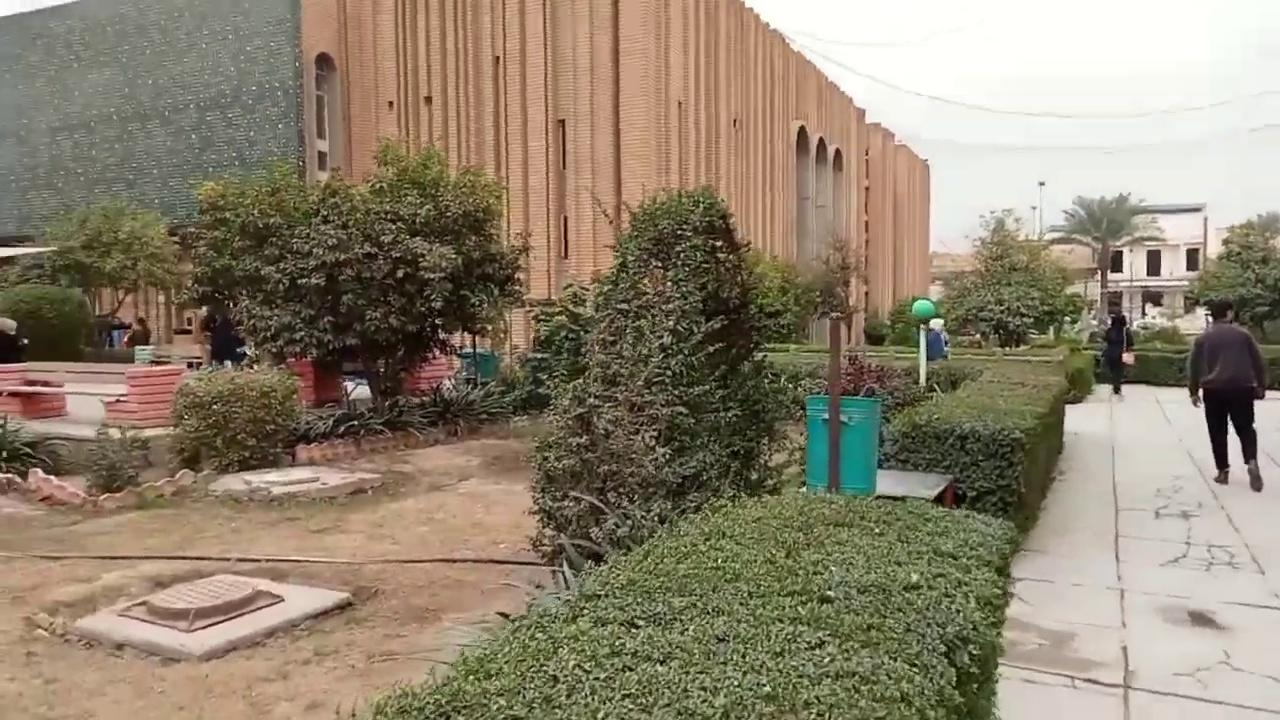person: (1187, 297, 1267, 492), (1100, 298, 1134, 394), (926, 317, 949, 361), (123, 316, 150, 349)
tree: (523, 182, 805, 575), (176, 134, 532, 419), (175, 159, 363, 410), (40, 197, 182, 345), (935, 215, 1086, 350), (1045, 190, 1164, 329), (166, 361, 306, 475), (1189, 210, 1279, 343), (795, 229, 868, 347), (0, 281, 95, 362), (81, 421, 152, 494)
